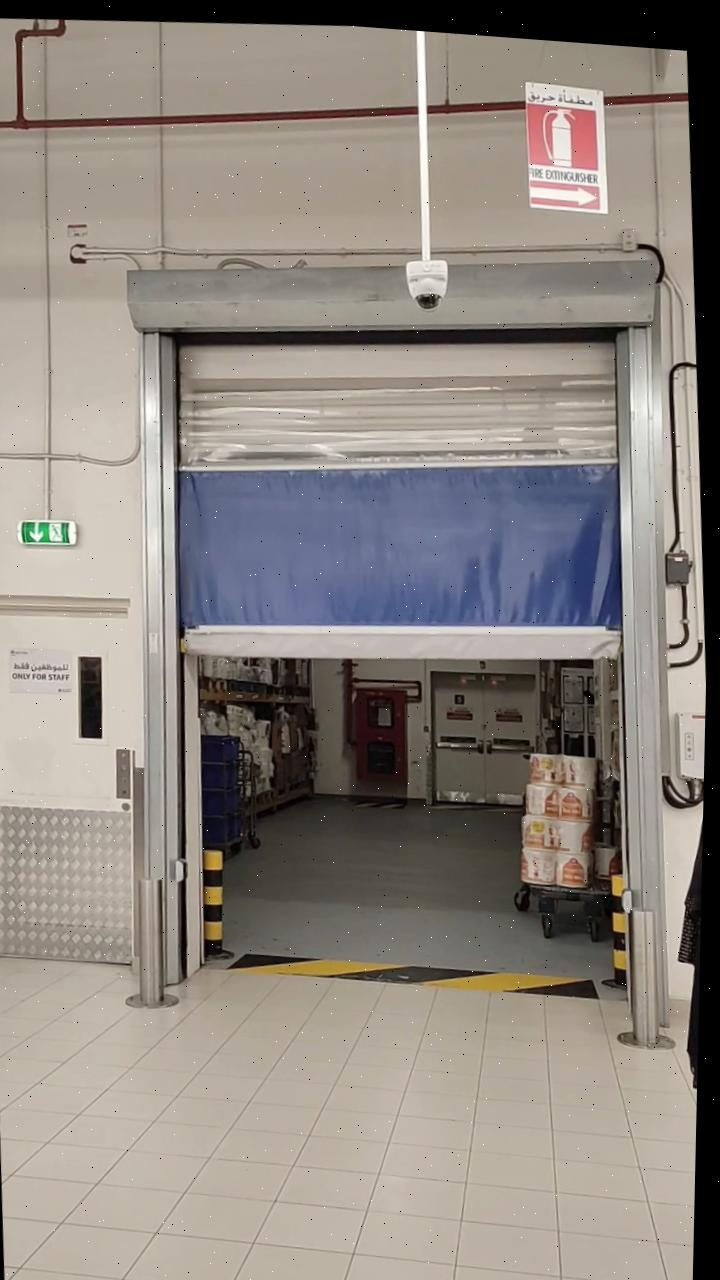Strip: (236, 920, 598, 1015)
